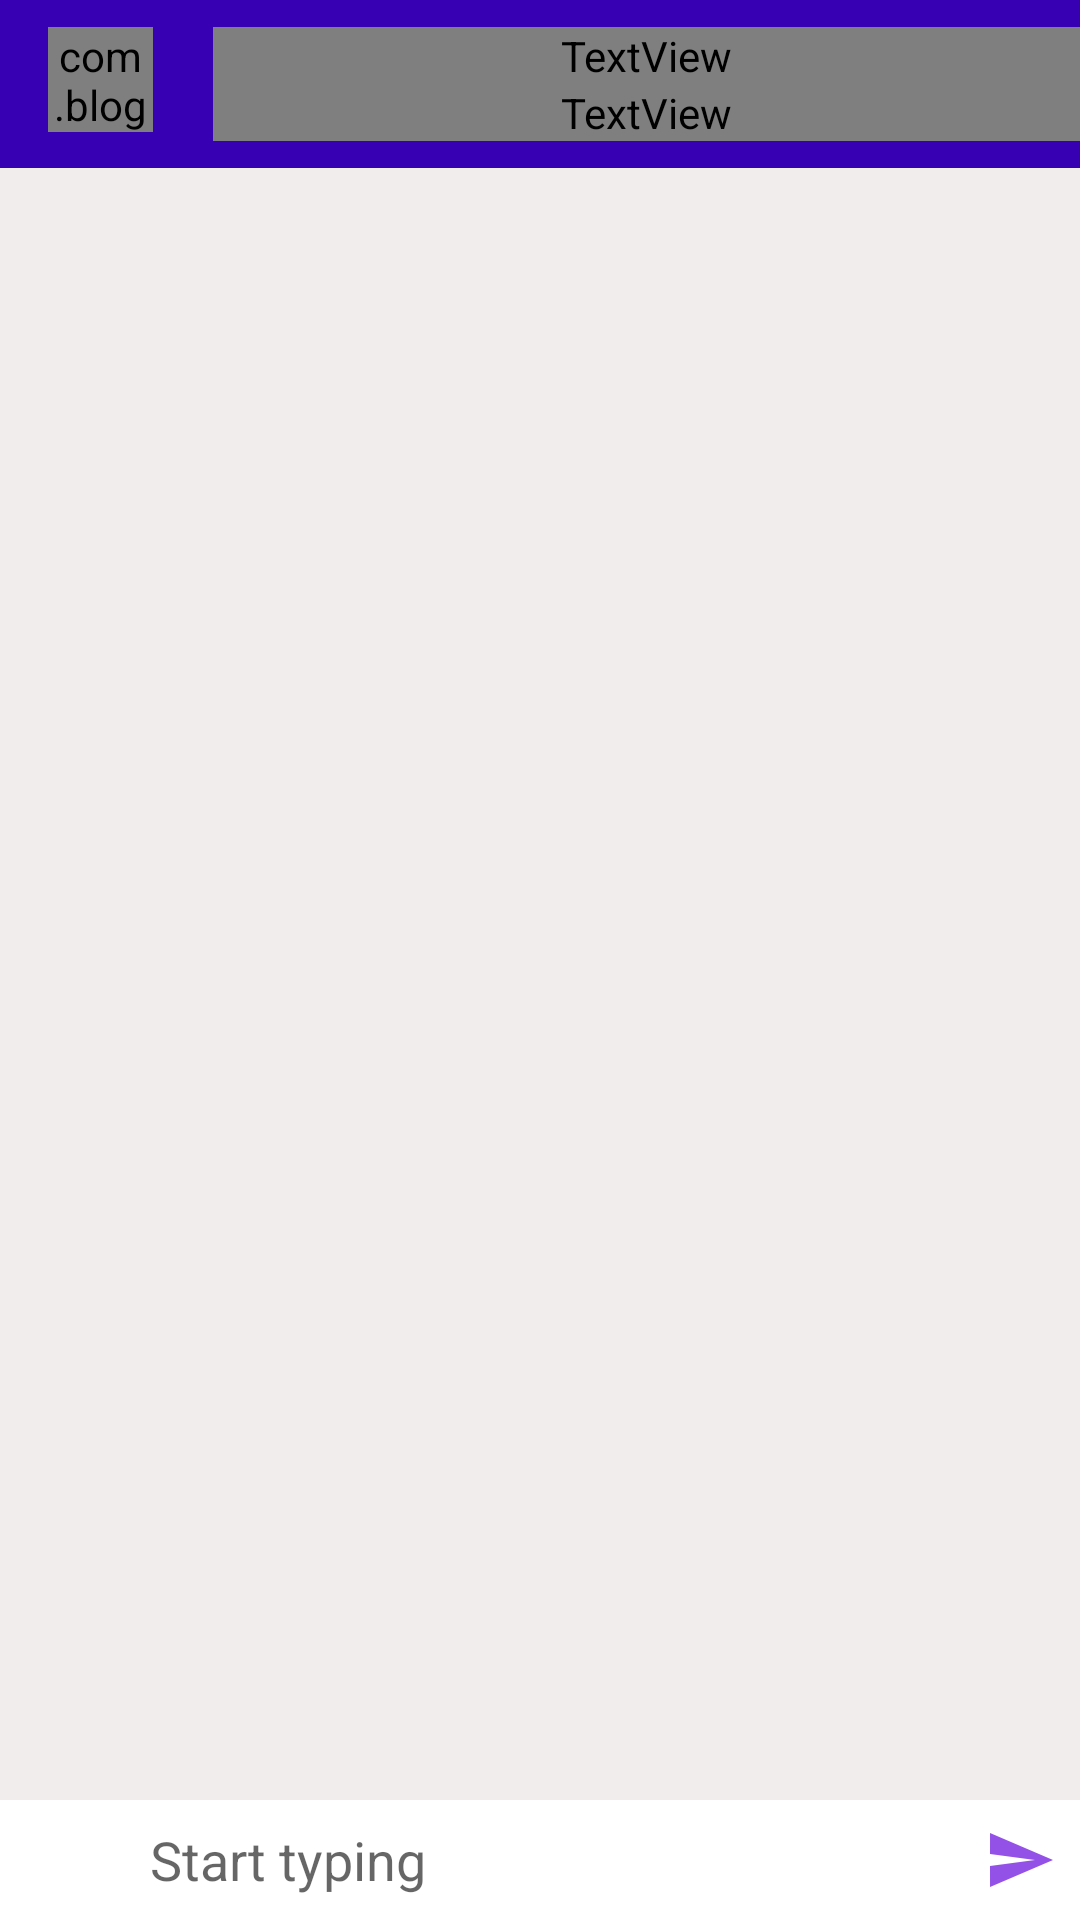

Point at icon controls on the screen. Image size 1080*1920, points as (x=x, y=y).
send: (x=1021, y=1860)
